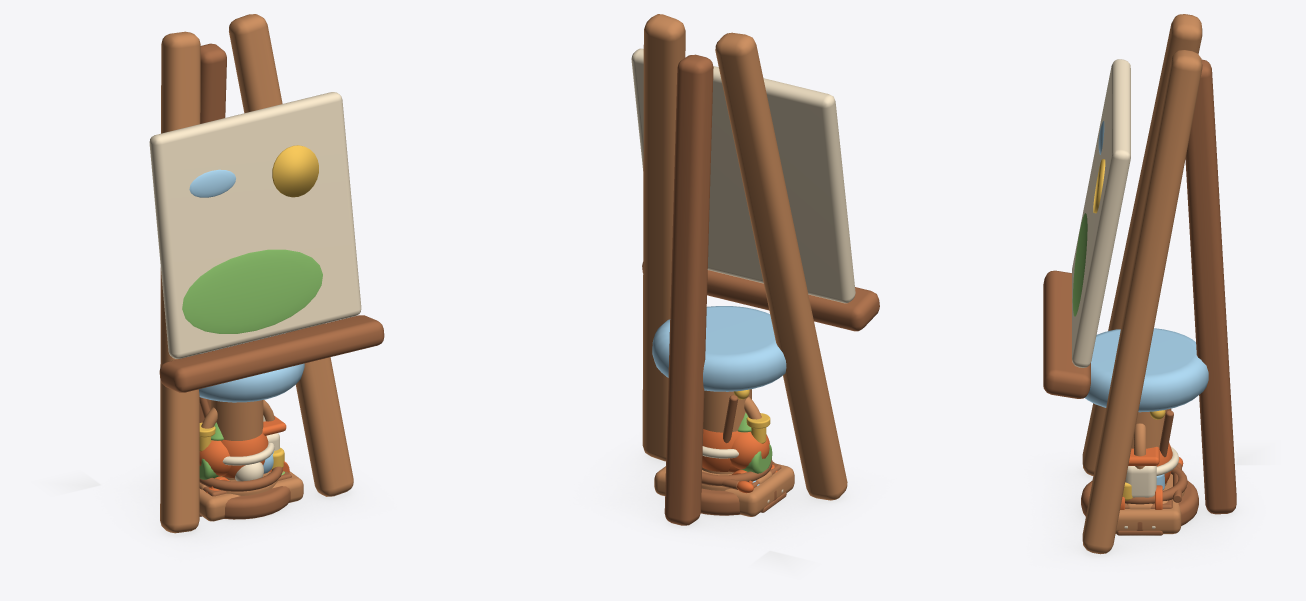
Rendered from interest_craft_v1.glb.
The picture shows the model from 3 angles, left to right: view 1: azimuth 30°, elevation 25°; view 2: azimuth 150°, elevation 25°; view 3: azimuth 270°, elevation 25°; orthographic projection. The views are drawn at different scales.
Parts seen in each view (by area): view 1: easel_canvas, easel_leg_L, easel_leg_R, easel_paint_hill, easel_ledge, shadow_easel, drawing_stool_seat, easel_leg_back, easel_paint_sun, drawing_stool_post, drawing_stool_foot, paint_box_body (+5 smaller); view 2: easel_canvas, easel_leg_L, easel_leg_back, easel_leg_R, drawing_stool_seat, shadow_easel, easel_ledge, paint_box_body, shadow_drawing_stool, drawing_stool_post, drawing_stool_foot, sewing_kit_cushion (+1 smaller); view 3: easel_leg_R, easel_leg_back, easel_canvas, drawing_stool_seat, easel_leg_L, shadow_easel, easel_ledge, shadow_drawing_stool, paint_box_body, easel_paint_hill, drawing_stool_foot, model_train_cab (+5 smaller).
Part boxes in pixels (box(x1,y1,x2,y2)): easel_canvas: box(149, 92, 361, 358); easel_leg_L: box(160, 31, 200, 533); easel_leg_R: box(229, 14, 353, 496); easel_paint_hill: box(182, 249, 322, 333); easel_ledge: box(159, 315, 384, 392); shadow_easel: box(51, 462, 362, 545); drawing_stool_seat: box(198, 333, 304, 402); easel_leg_back: box(199, 43, 226, 422); easel_paint_sun: box(272, 145, 318, 197); drawing_stool_post: box(210, 400, 263, 480); drawing_stool_foot: box(224, 486, 290, 519); paint_box_body: box(199, 471, 303, 521); easel_canvas: box(631, 48, 855, 303); easel_leg_L: box(715, 32, 847, 500); easel_leg_back: box(664, 54, 713, 525); easel_leg_R: box(642, 14, 685, 461); drawing_stool_seat: box(652, 306, 786, 391); shadow_easel: box(620, 447, 856, 570); easel_ledge: box(642, 262, 879, 331); paint_box_body: box(654, 462, 794, 516); shadow_drawing_stool: box(641, 475, 804, 526); drawing_stool_post: box(702, 389, 751, 474); drawing_stool_foot: box(701, 461, 776, 515); sewing_kit_cushion: box(730, 431, 769, 469); easel_leg_R: box(1082, 50, 1202, 554); easel_leg_back: box(1185, 59, 1236, 514); easel_canvas: box(1072, 59, 1130, 367); drawing_stool_seat: box(1085, 328, 1208, 412); easel_leg_L: box(1082, 14, 1202, 475); shadow_easel: box(1056, 447, 1266, 562); easel_ledge: box(1043, 270, 1090, 398); shadow_drawing_stool: box(1062, 487, 1214, 543); paint_box_body: box(1115, 501, 1181, 534); easel_paint_hill: box(1072, 213, 1087, 316); drawing_stool_foot: box(1081, 481, 1198, 530); model_train_cab: box(1125, 465, 1156, 497).
Size of the model in its own units: 0.92 by 1.34 by 0.7734.
Materials: 8 (1 with a texture image).
